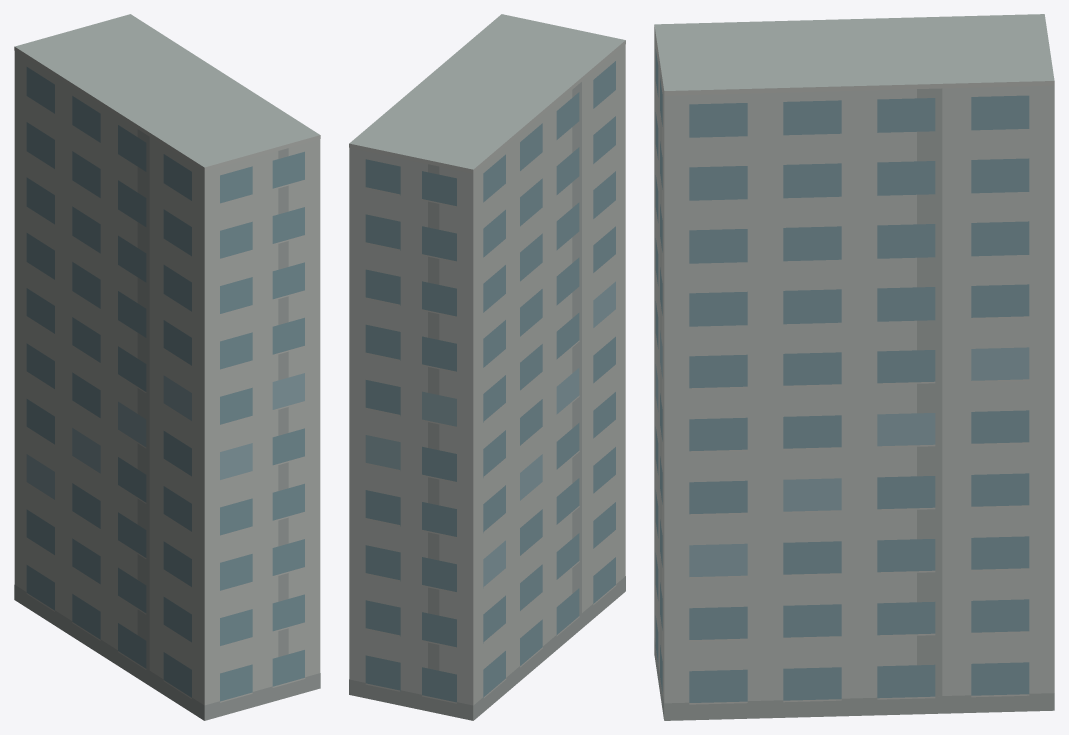
Rendered from residential-4f0efa0d-26ac-406f-a151-d13bc0a575d4.glb.
The picture shows the model from 3 angles, left to right: view 1: azimuth 30°, elevation 25°; view 2: azimuth 150°, elevation 25°; view 3: azimuth 270°, elevation 25°; orthographic projection. The views are drawn at different scales.
Parts seen in each view (by area): view 1: residential-4f0efa0d-26ac-406f-a151-d13bc0a575d4.tmp; view 2: residential-4f0efa0d-26ac-406f-a151-d13bc0a575d4.tmp; view 3: residential-4f0efa0d-26ac-406f-a151-d13bc0a575d4.tmp.
Boxes of the visible parts, bbox=[...] form: residential-4f0efa0d-26ac-406f-a151-d13bc0a575d4.tmp: bbox=[14, 14, 320, 720]; residential-4f0efa0d-26ac-406f-a151-d13bc0a575d4.tmp: bbox=[349, 14, 625, 720]; residential-4f0efa0d-26ac-406f-a151-d13bc0a575d4.tmp: bbox=[654, 14, 1054, 720].
Bounding box in the file's own units: 8.67 × 33 × 19.01.
